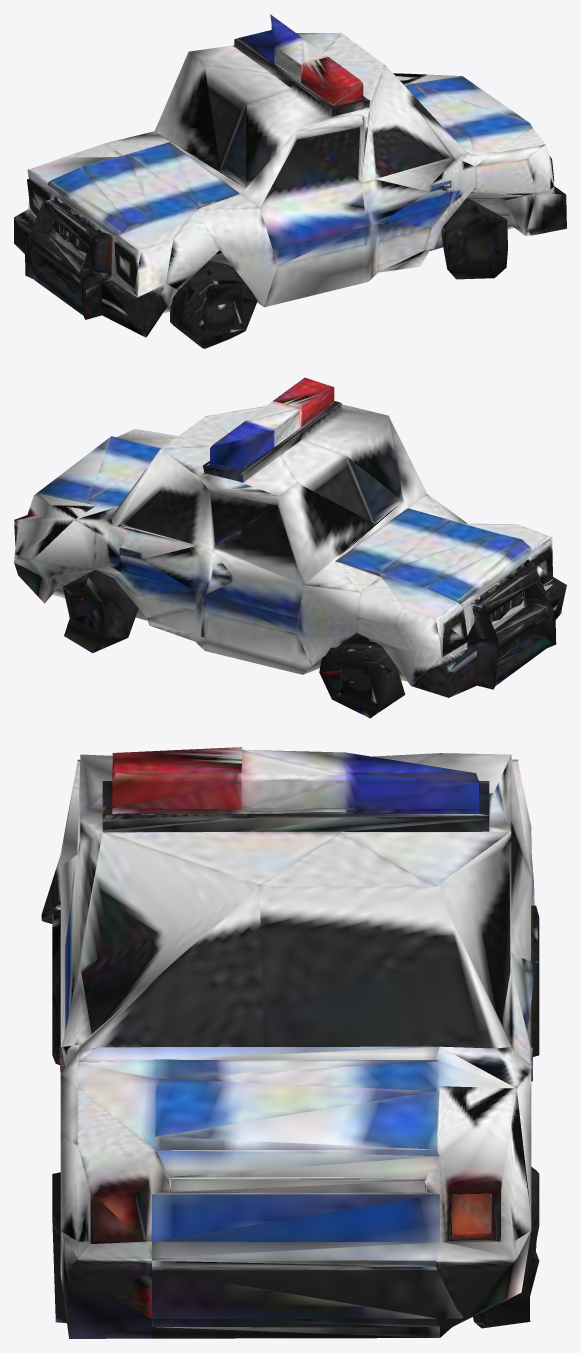
File: 50-police-car.glb
3 views of the same model, one above another, from view 1: azimuth 30°, elevation 25°; view 2: azimuth 150°, elevation 25°; view 3: azimuth 270°, elevation 25° (orthographic). The views are drawn at different scales.
Parts seen in each view (by area): view 1: geometry_0; view 2: geometry_0; view 3: geometry_0.
Part boxes in pixels (x1,y1,x2,y2): geometry_0: [14, 14, 566, 348]; geometry_0: [14, 377, 566, 718]; geometry_0: [41, 747, 539, 1338].
Bounding box in the file's own units: 0.9526 × 0.4424 × 0.4507.
Materials: 1 (1 with a texture image).
